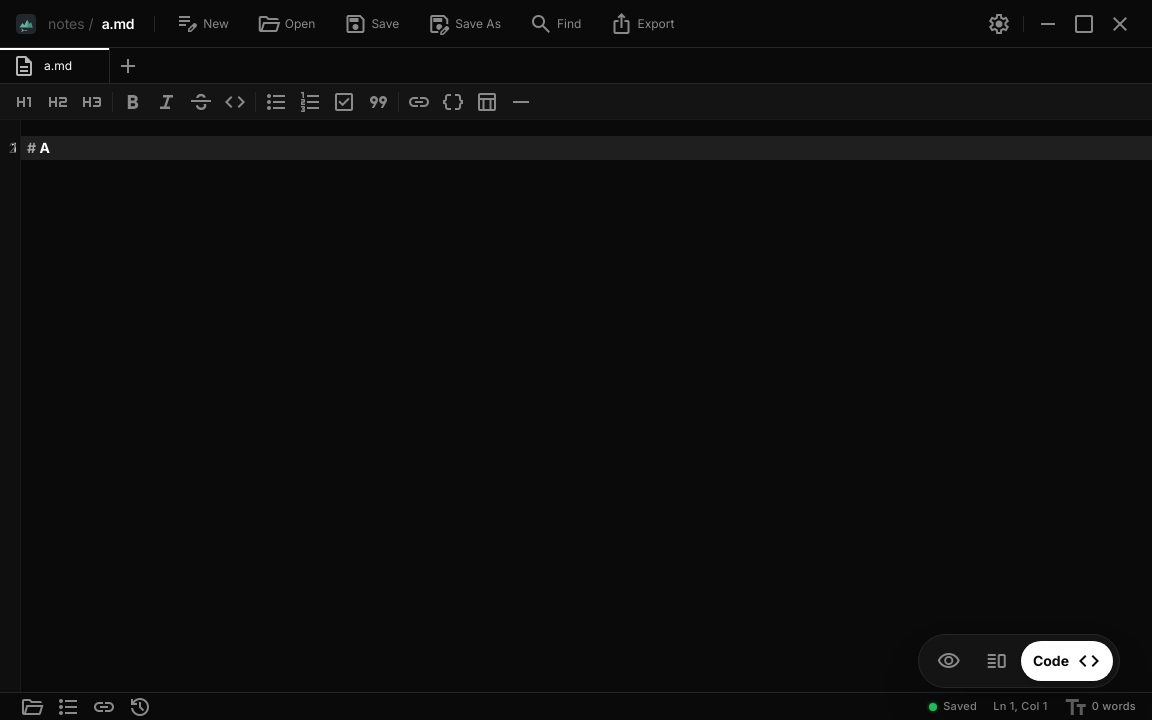
Test: App external conflict › Reload from disk takes the other change and drops the edits
The image size is (1152, 720).
Expected: the field with class "cm-content" is shown, [21,136,1151,160]
Click the button named "bold" at (133, 102), box [117,86,149,118]
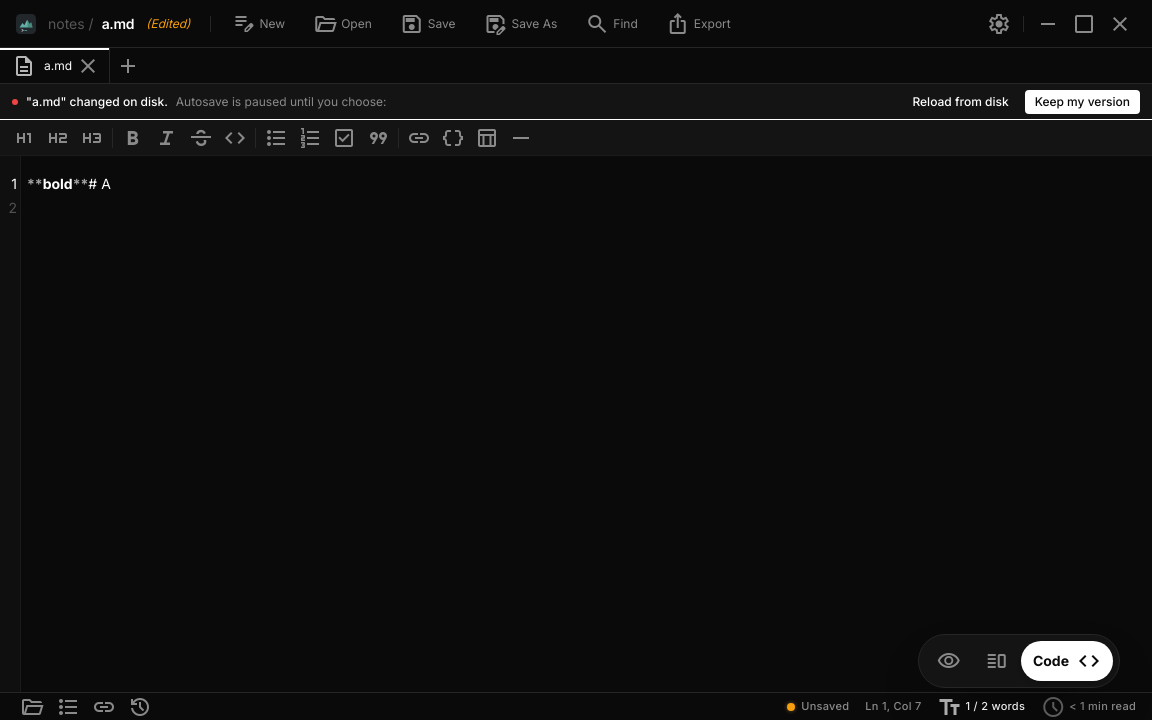
Expected: the text "Unsaved" is shown, [801,698,849,715]
Click the button "Reload from disk" at (961, 102), box [902,90,1019,114]
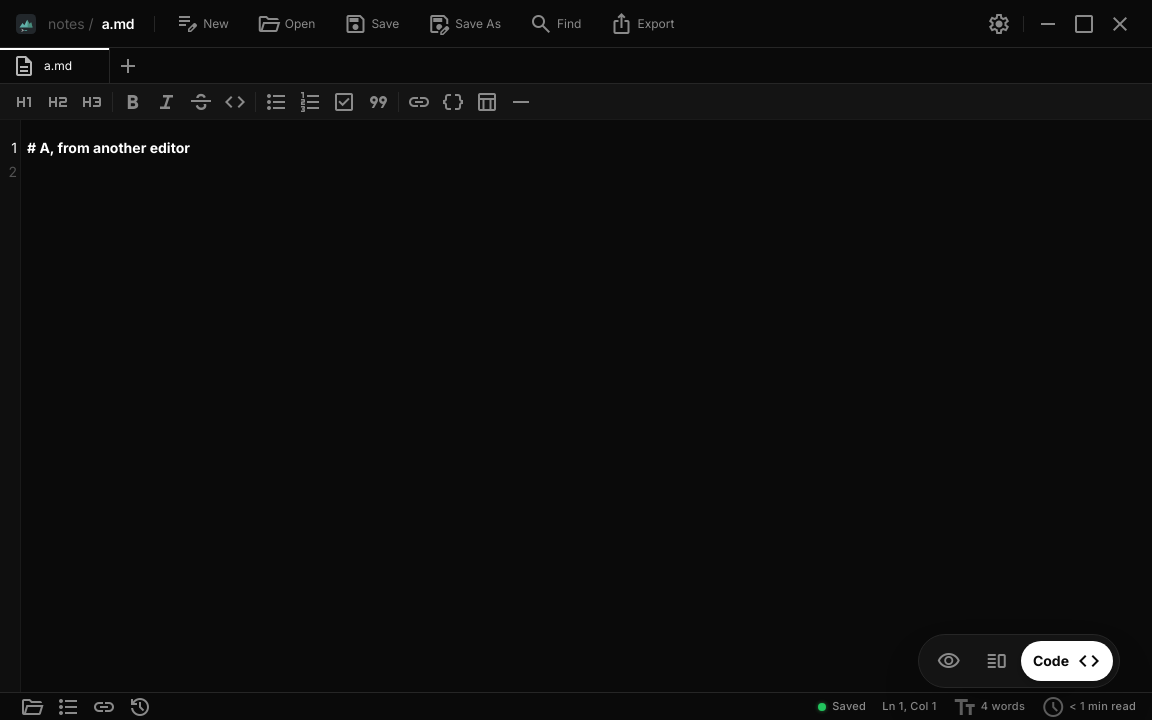
Expected: the field with class "cm-content" shows "another editor", [27,139,190,156]
Expected: the text box with class "cm-content" no longer shows "**"
Expected: the button "Keep my version" is gone
